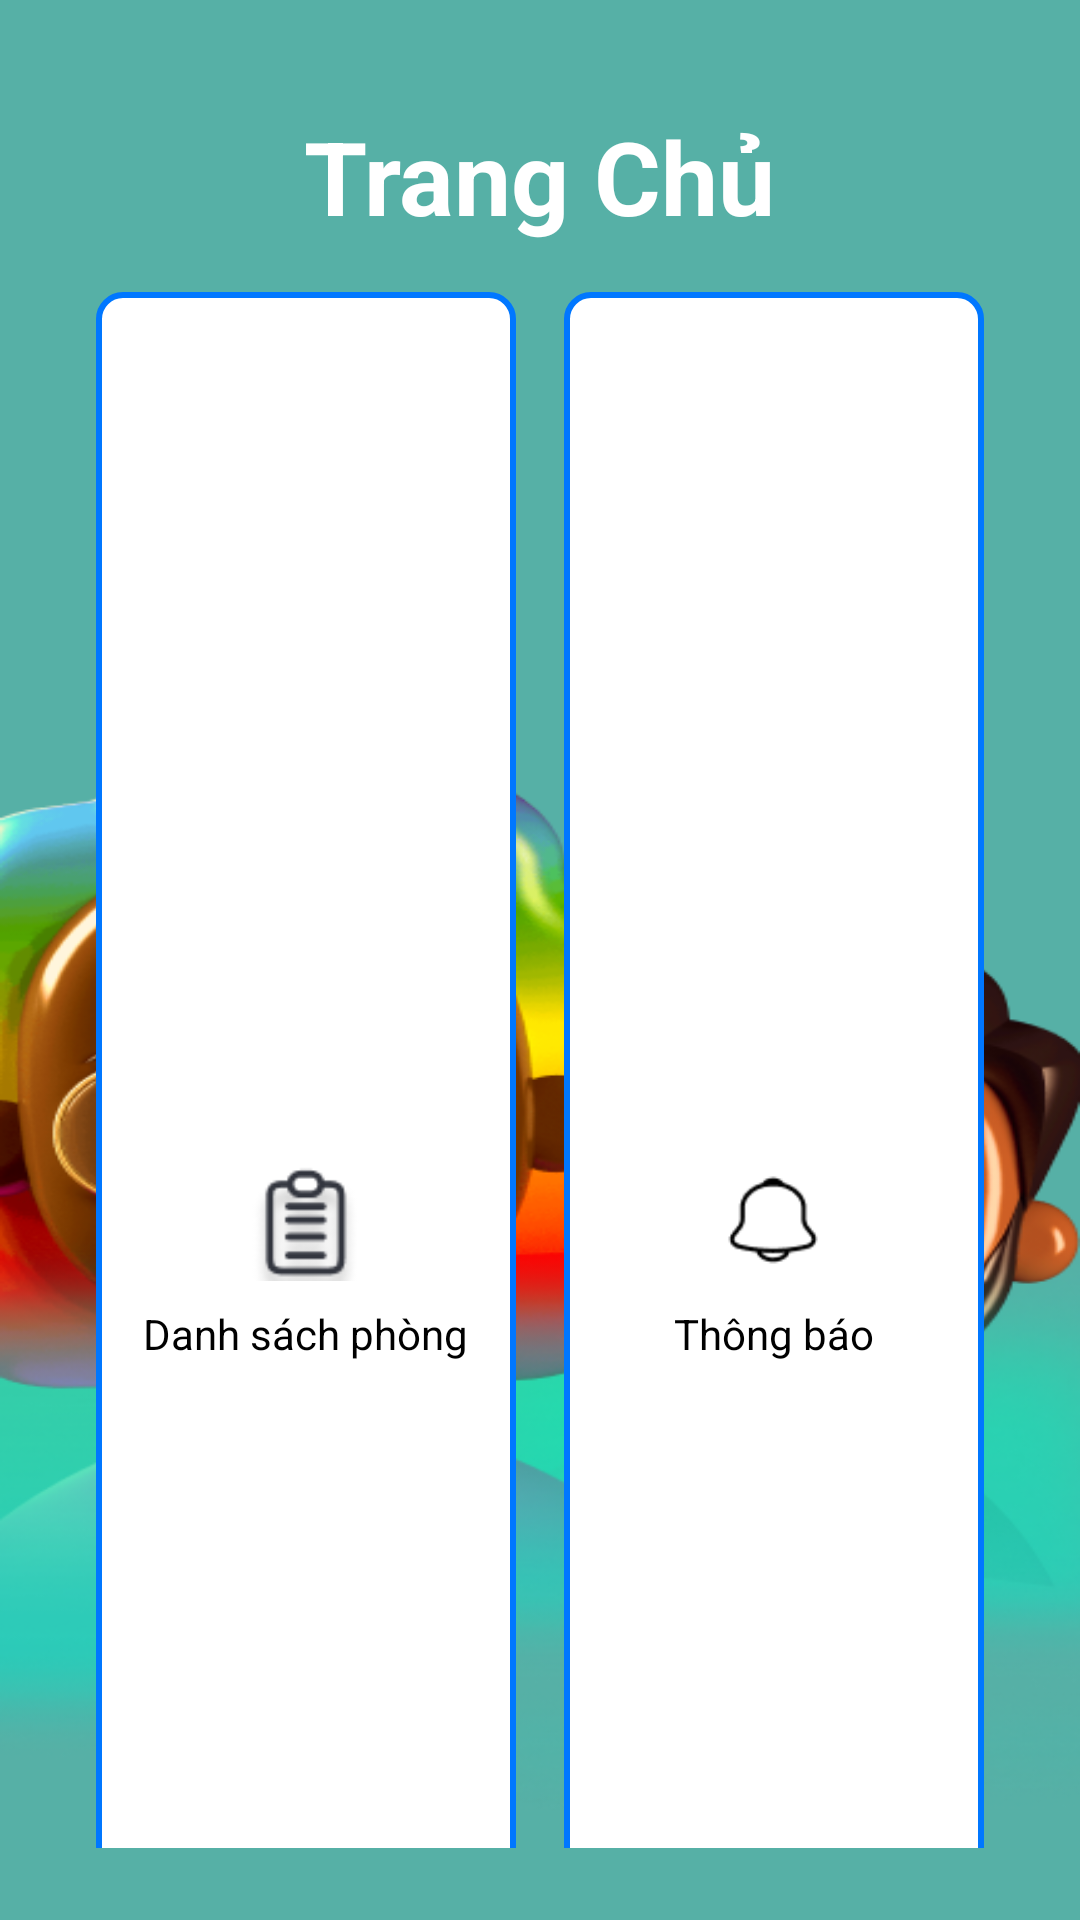

Icons on this 1080 x 1920 Android screen, each with its box as region(x1, y1, x2, y2):
anhthongbao: region(728, 1176, 818, 1264)
